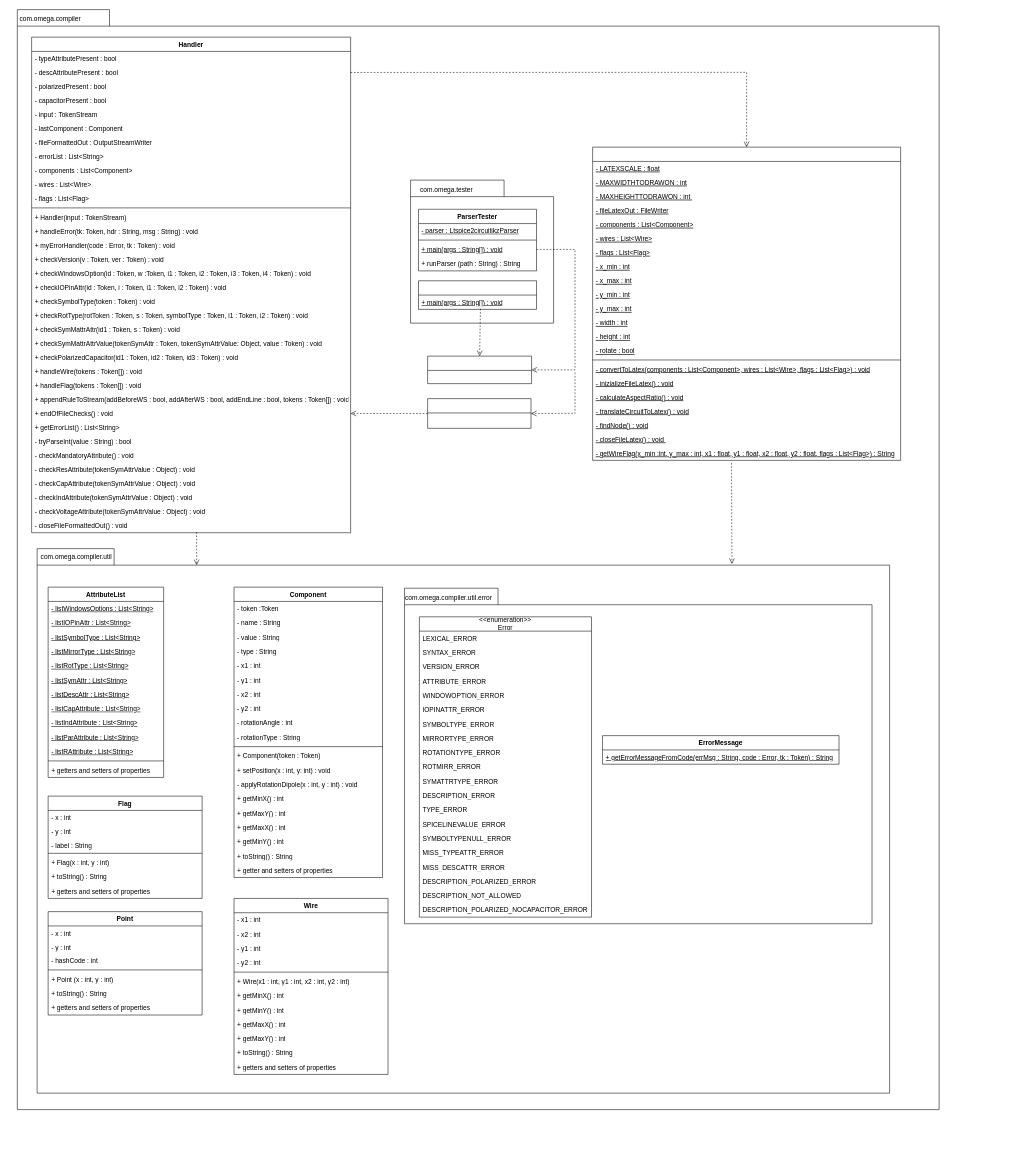
This 1009x1158 diagram has some shape labels left out. The shapes that lost their labels are listed below. From the top down, each one's box as (x1, y1, x2, y2) in pixels, then its label:
(418, 280, 537, 309): ScannerTester
(592, 147, 901, 460): LatexConverter
(427, 356, 532, 384): Ltspice2circuitikzLexer
(427, 398, 531, 428): Ltspice2circuitikzParser
